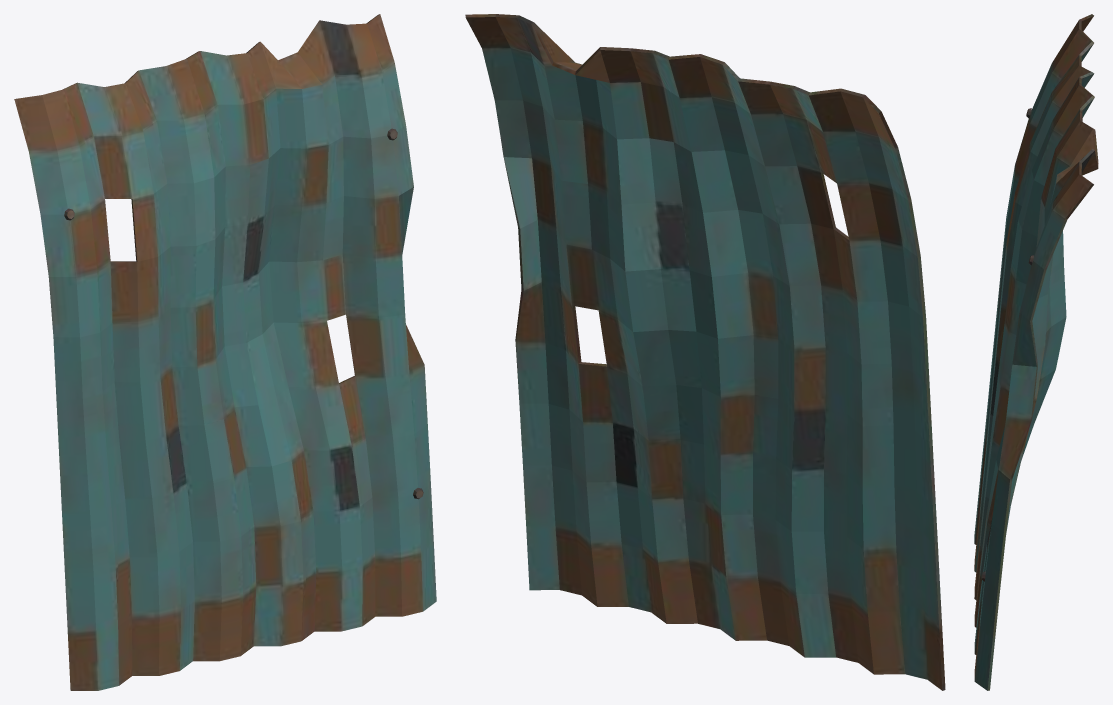
File: BR21_bent_metal_sheet_v1.glb
3 renders of one model, left to right at view 1: azimuth 30°, elevation 25°; view 2: azimuth 150°, elevation 25°; view 3: azimuth 270°, elevation 25°, orthographic. The views are drawn at different scales.
Parts seen in each view (by area): view 1: Bent_sheet_0; view 2: Bent_sheet_0; view 3: Bent_sheet_0.
Boxes of the visible parts, x1,y1,x2,y2 form: Bent_sheet_0: (14,14,436,690); Bent_sheet_0: (465,14,945,690); Bent_sheet_0: (974,14,1098,690).
Bounding box in the file's own units: 1.03 × 1.5 × 0.3268.
Materials: 3 (3 with a texture image).
